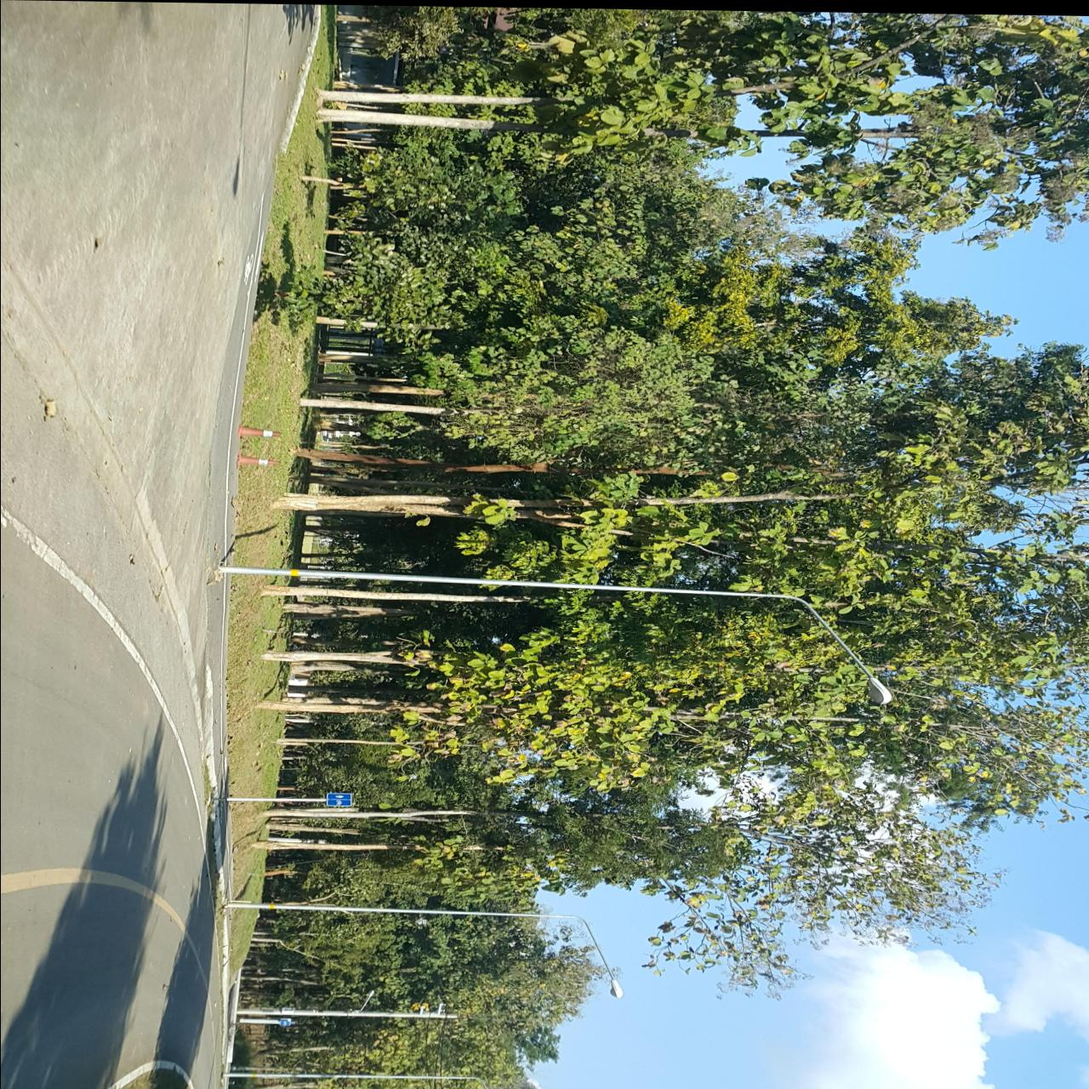stop sign: (214, 786, 362, 811)
